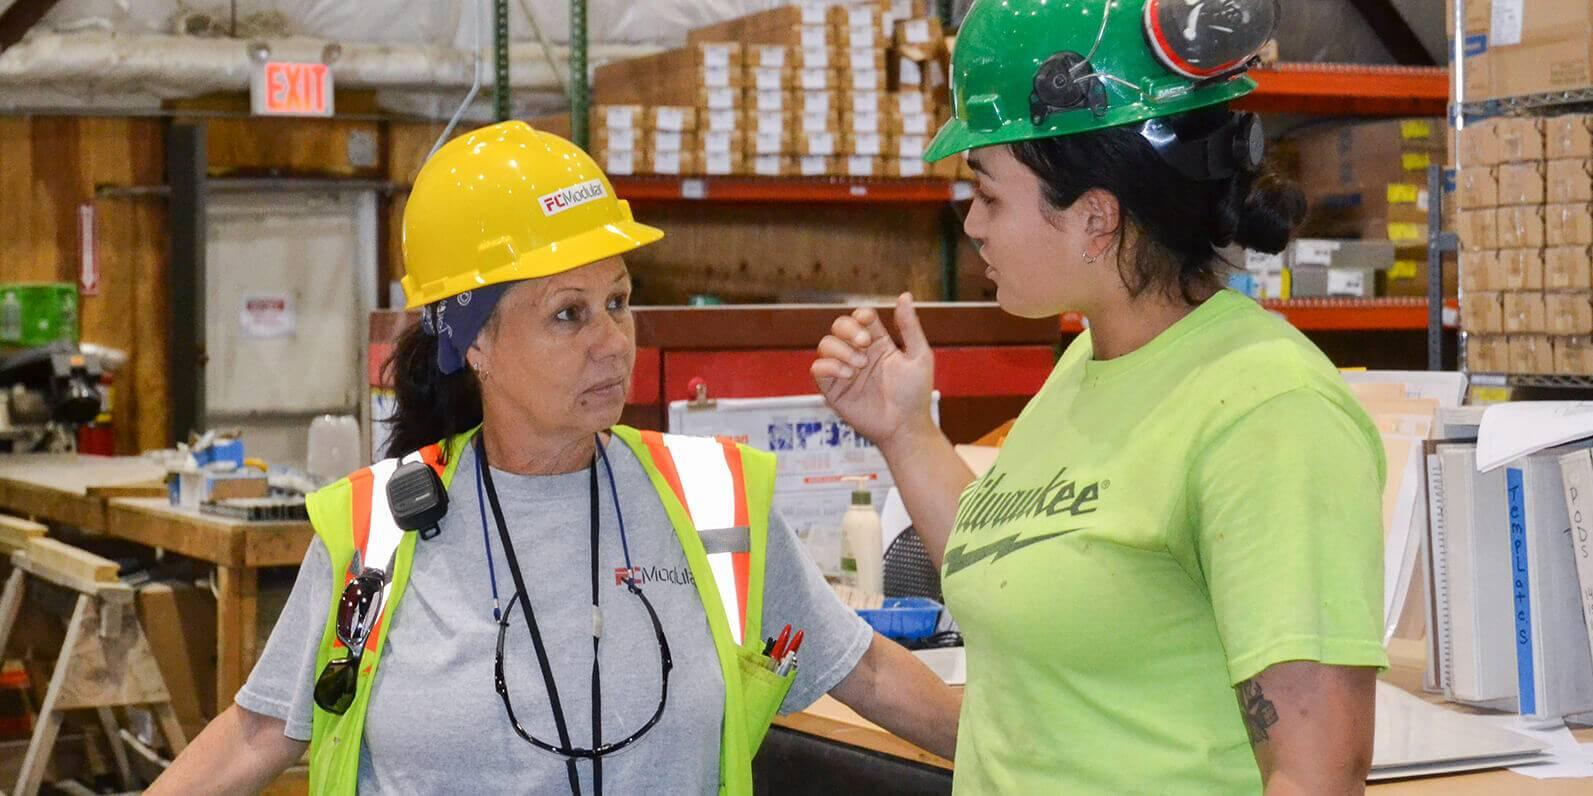helmet: (923, 1, 1258, 163), (401, 120, 665, 318)
